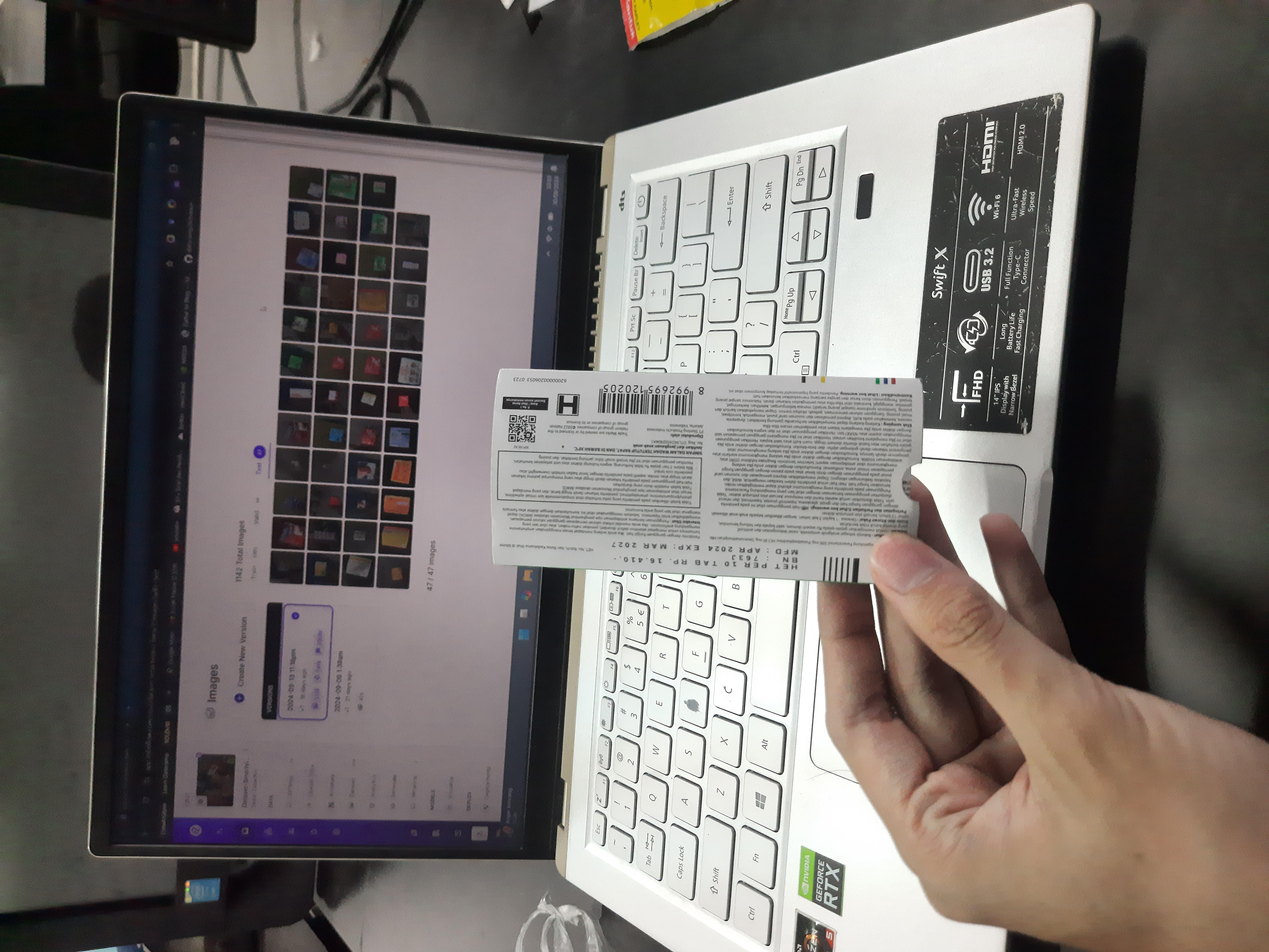Panadol Cold Flu: (491, 368, 778, 692)
